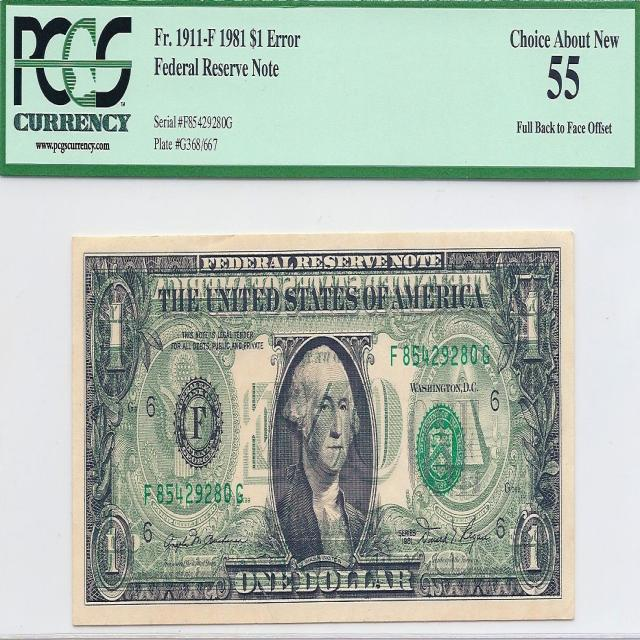1-Front: (73, 235, 576, 620)
